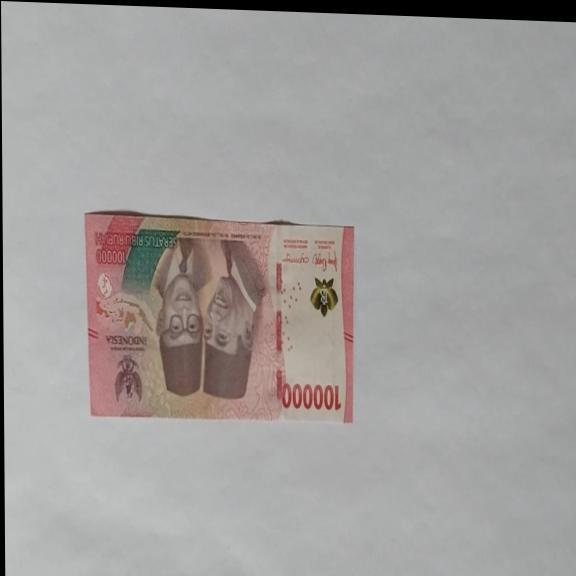Kertas: (84, 211, 356, 428), (280, 380, 341, 413)
